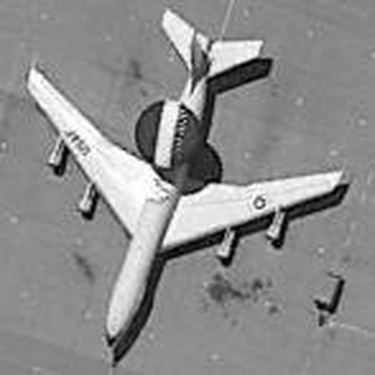airplane: (7, 5, 350, 367)
